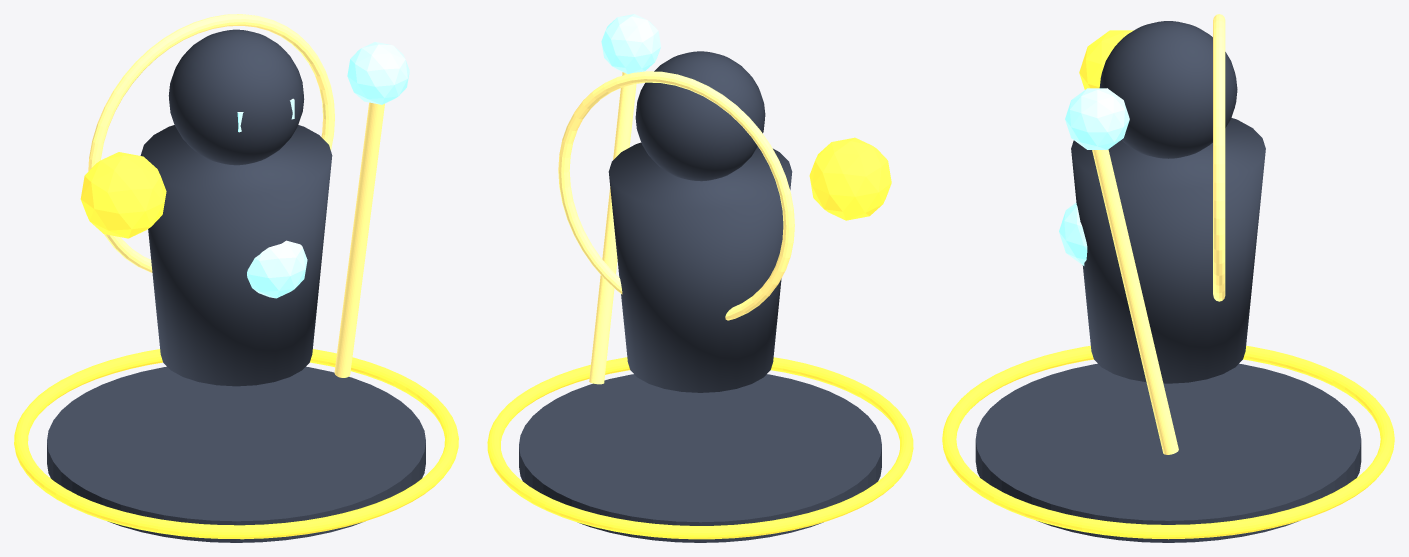
Rendered from azoth.glb.
The picture shows the model from 3 angles, left to right: view 1: azimuth 30°, elevation 25°; view 2: azimuth 150°, elevation 25°; view 3: azimuth 270°, elevation 25°; orthographic projection. The views are drawn at different scales.
Parts seen in each view (by area): view 1: AbilityPedestal, AgentTorso, AgentHead, AbilityAuraRing, Pet_AZOTH, SovereignHalo, SignatureWeapon, WeaponApex, AgentCore; view 2: AbilityPedestal, AgentTorso, AgentHead, AbilityAuraRing, SovereignHalo, Pet_AZOTH, SignatureWeapon, WeaponApex; view 3: AbilityPedestal, AgentTorso, AgentHead, AbilityAuraRing, SignatureWeapon, SovereignHalo, WeaponApex, Pet_AZOTH, AgentCore.
Boxes of the visible parts, left/top/right/bottom form: AbilityPedestal: left=47, top=366, right=425, bottom=542; AgentTorso: left=140, top=125, right=332, bottom=386; AgentHead: left=168, top=29, right=304, bottom=165; AbilityAuraRing: left=14, top=349, right=458, bottom=539; Pet_AZOTH: left=80, top=152, right=166, bottom=238; SovereignHalo: left=88, top=14, right=334, bottom=272; SignatureWeapon: left=334, top=102, right=384, bottom=377; WeaponApex: left=347, top=42, right=409, bottom=104; AgentCore: left=247, top=240, right=307, bottom=298; AbilityPedestal: left=519, top=374, right=881, bottom=542; AgentTorso: left=608, top=142, right=792, bottom=392; AgentHead: left=635, top=51, right=765, bottom=181; AbilityAuraRing: left=487, top=357, right=913, bottom=539; SovereignHalo: left=558, top=71, right=794, bottom=320; Pet_AZOTH: left=809, top=137, right=891, bottom=220; SignatureWeapon: left=589, top=72, right=636, bottom=384; WeaponApex: left=601, top=14, right=660, bottom=74; AbilityPedestal: left=975, top=363, right=1361, bottom=542; AgentTorso: left=1071, top=118, right=1265, bottom=383; AgentHead: left=1099, top=21, right=1237, bottom=158; AbilityAuraRing: left=942, top=345, right=1394, bottom=539; SignatureWeapon: left=1092, top=149, right=1178, bottom=454; SovereignHalo: left=1213, top=14, right=1225, bottom=301; WeaponApex: left=1065, top=88, right=1129, bottom=149; Pet_AZOTH: left=1079, top=30, right=1133, bottom=89; AgentCore: left=1059, top=203, right=1087, bottom=265.
Bounding box in the file's own units: 2.23 × 2.36 × 2.23.
